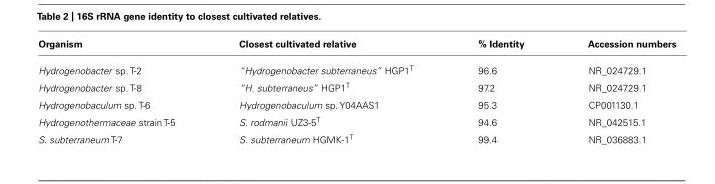table: (37, 37, 675, 144)
table column: (206, 37, 445, 144), (37, 37, 206, 144), (555, 37, 675, 144), (445, 37, 555, 144)
table column header: (37, 37, 675, 55)
table row: (37, 55, 675, 77), (37, 37, 675, 55), (37, 77, 675, 95), (37, 95, 675, 112), (37, 112, 675, 129), (37, 129, 675, 144)
